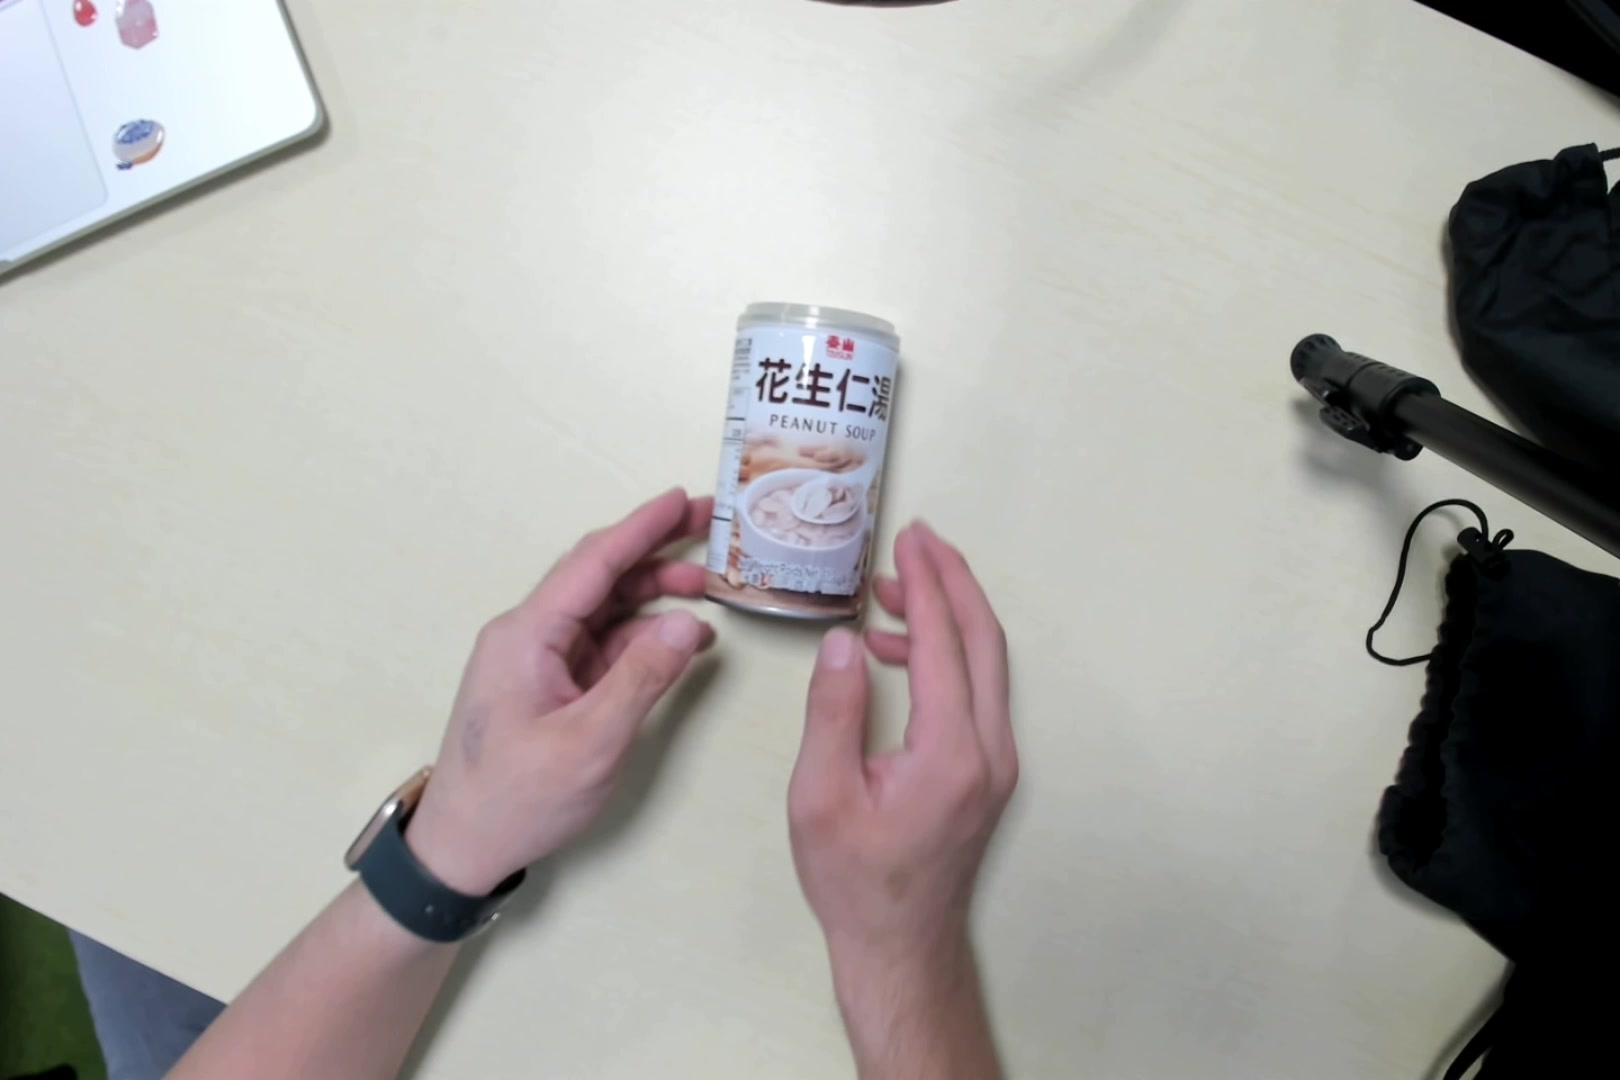InstantMeals_300-399g_NonHalal_NonHealthy: (708, 301, 894, 626)
